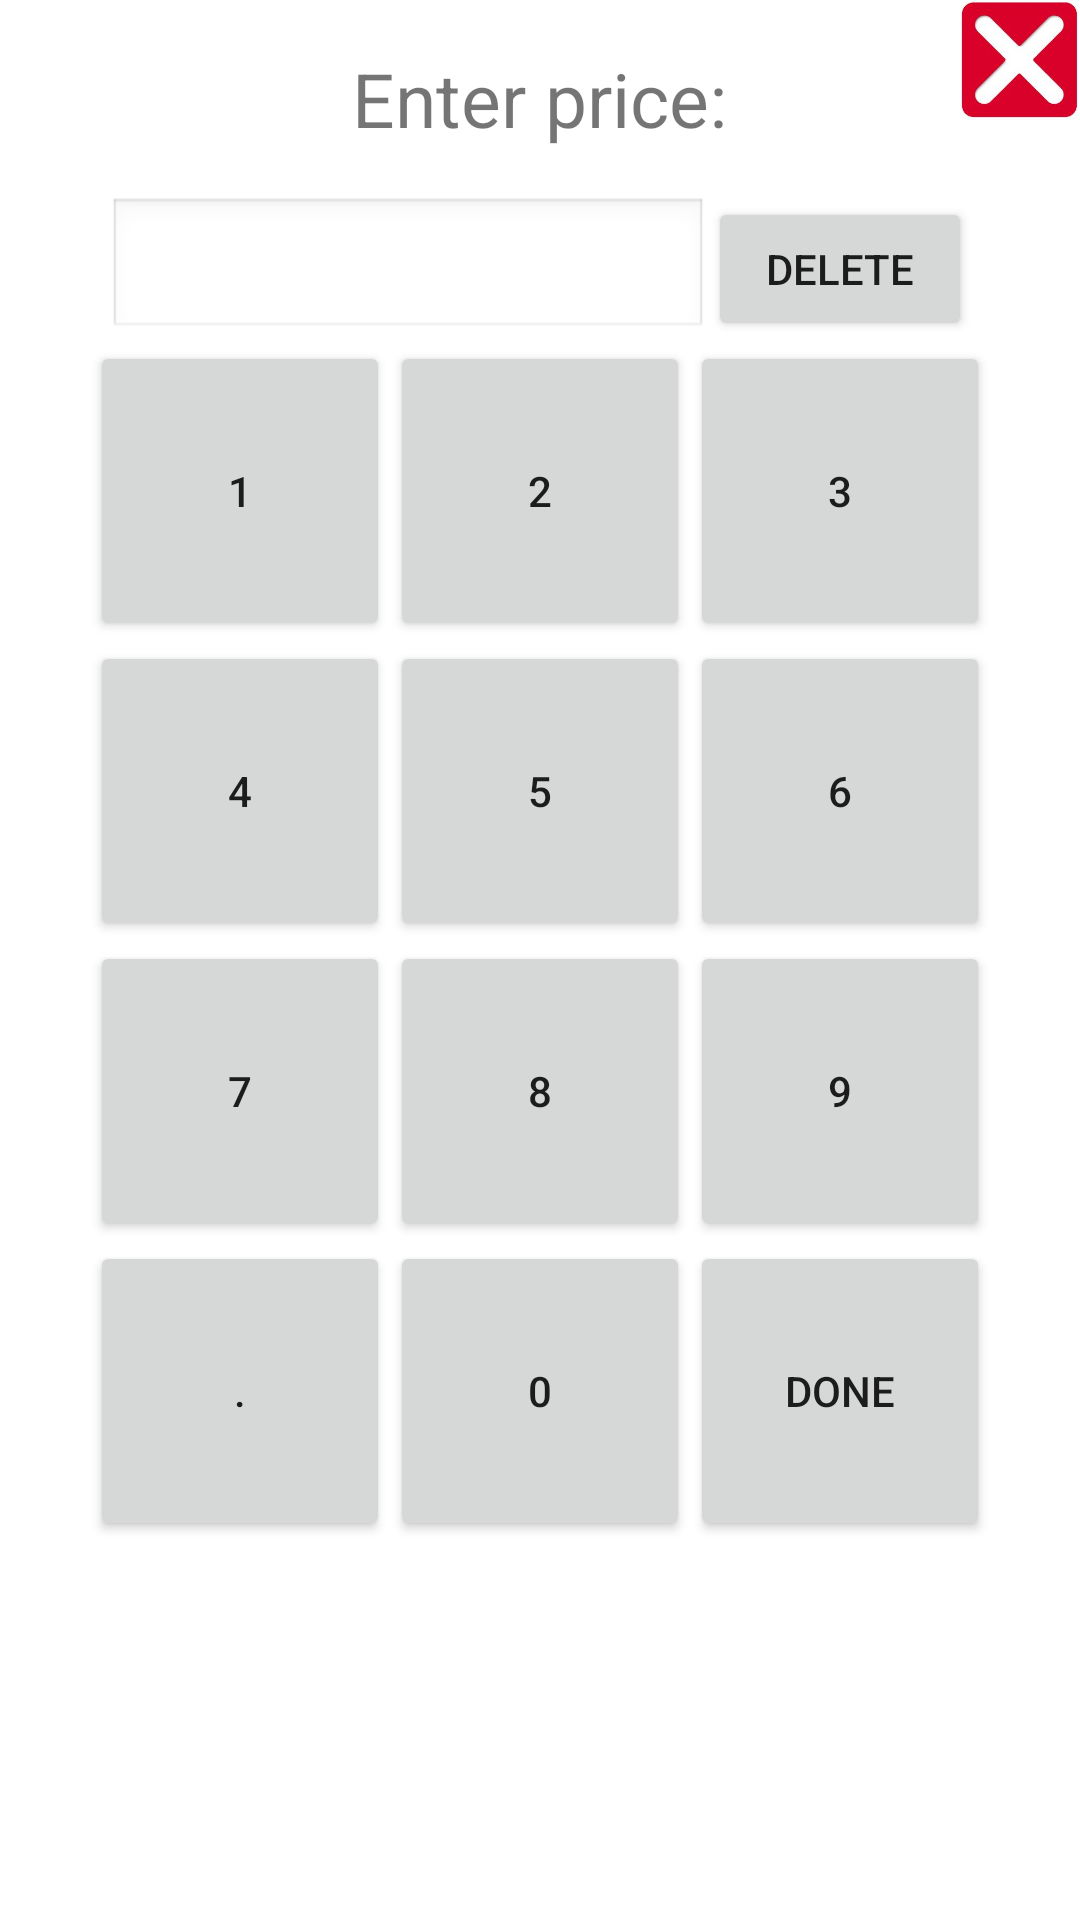

Screen size 1080x1920. Icon name, then its center in pixels as point (x, y):
close: point (1019, 60)
